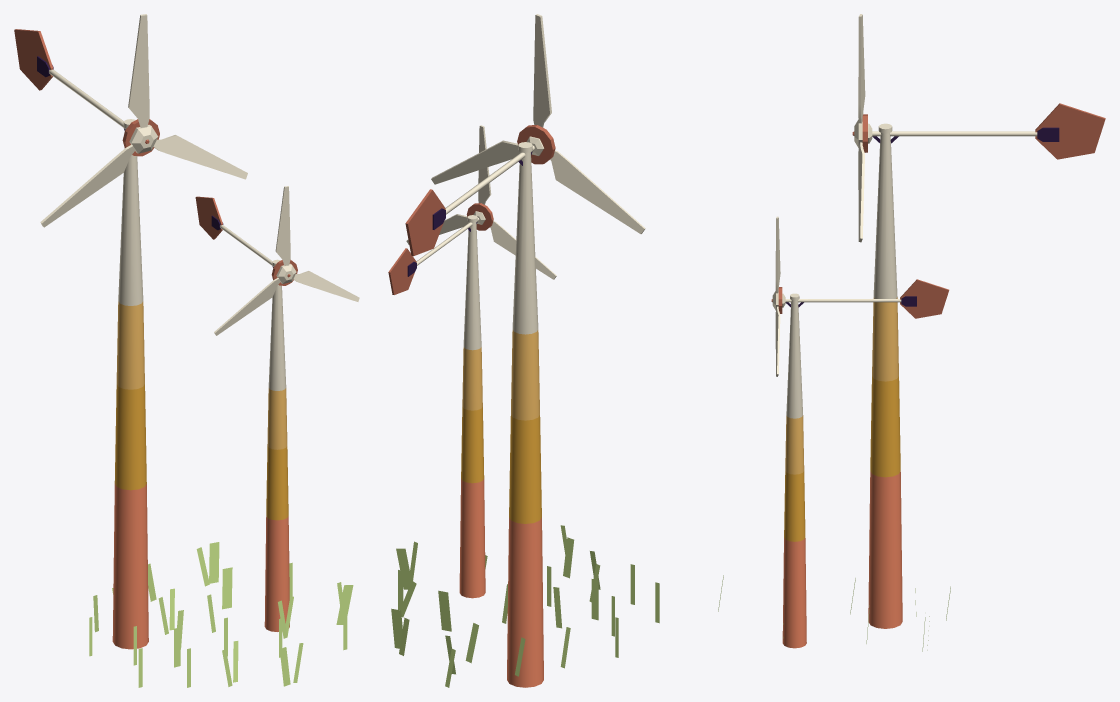
Rendered from M_Windmill_Var1_5.fbx.
3 views of the same model, side by side, from view 1: azimuth 30°, elevation 25°; view 2: azimuth 150°, elevation 25°; view 3: azimuth 270°, elevation 25° (orthographic). The views are drawn at different scales.
Visible parts, largest first — view 1: M_Windmill_Var1_5; view 2: M_Windmill_Var1_5; view 3: M_Windmill_Var1_5.
Boxes of the visible parts, x1=… form: M_Windmill_Var1_5: x1=14, y1=14, x2=359, y2=687; M_Windmill_Var1_5: x1=388, y1=14, x2=659, y2=687; M_Windmill_Var1_5: x1=718, y1=14, x2=1105, y2=651.
Bounding box in the file's own units: 1.68 × 3.69 × 2.3.
